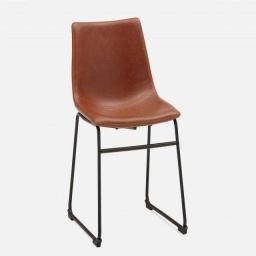Chair: (67, 21, 187, 248)
